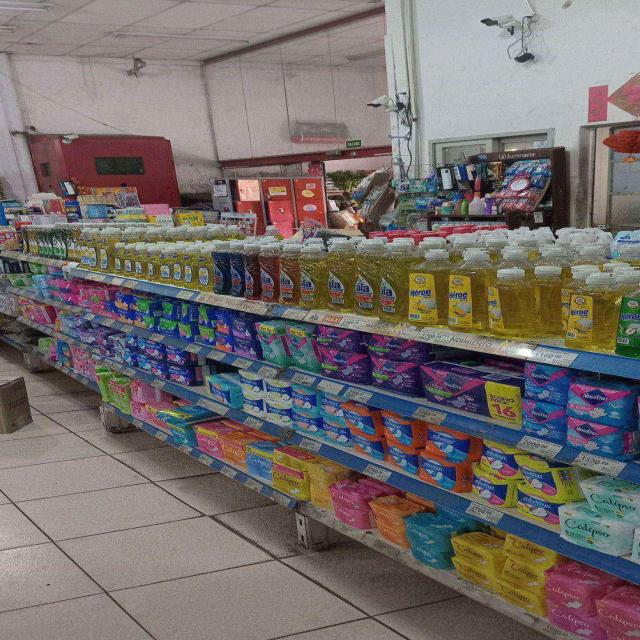ala_conc_amarillo: (378, 242, 406, 324), (353, 242, 378, 318), (327, 245, 354, 313), (300, 248, 326, 310)
ala_conc_azul: (229, 250, 245, 297), (213, 249, 228, 295)
ala_conc_rojo: (259, 251, 279, 303), (241, 248, 258, 300)
cif_conc_botella_verde: (616, 272, 640, 358)
magistral_con_amarillo: (158, 250, 174, 284)
